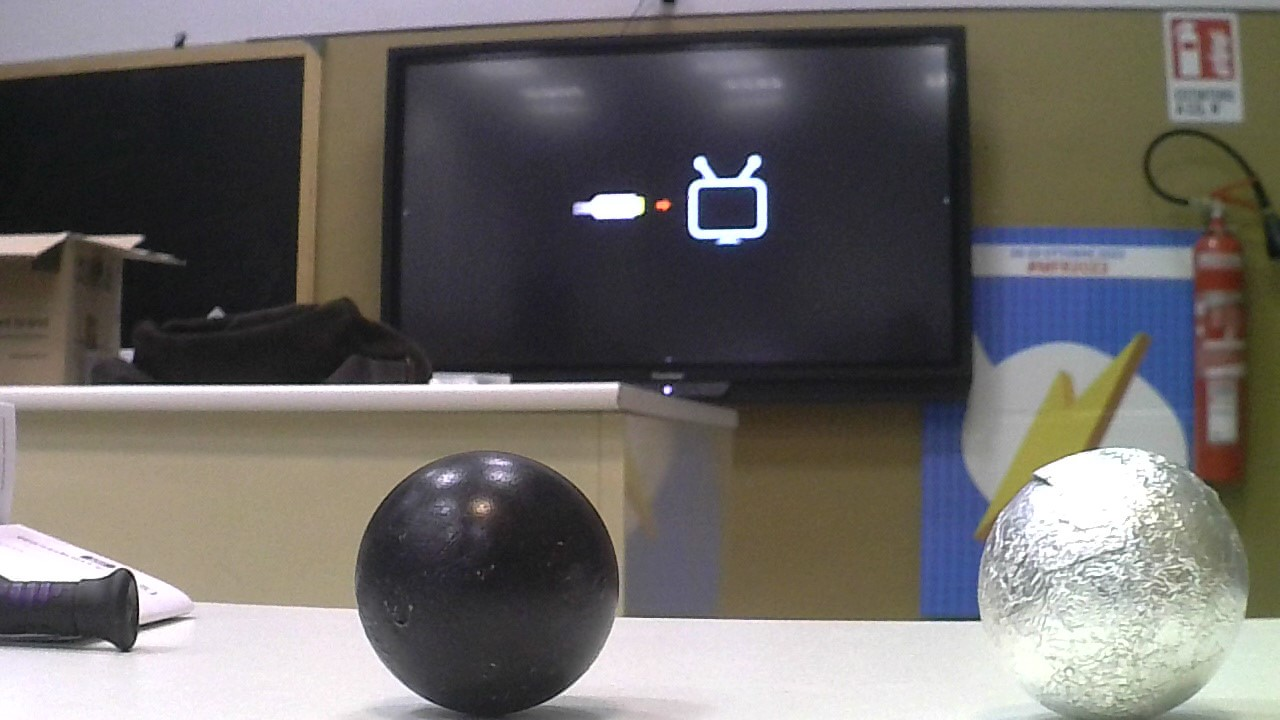black_ball: (350, 434, 620, 720)
silver_ball: (976, 416, 1249, 715)
